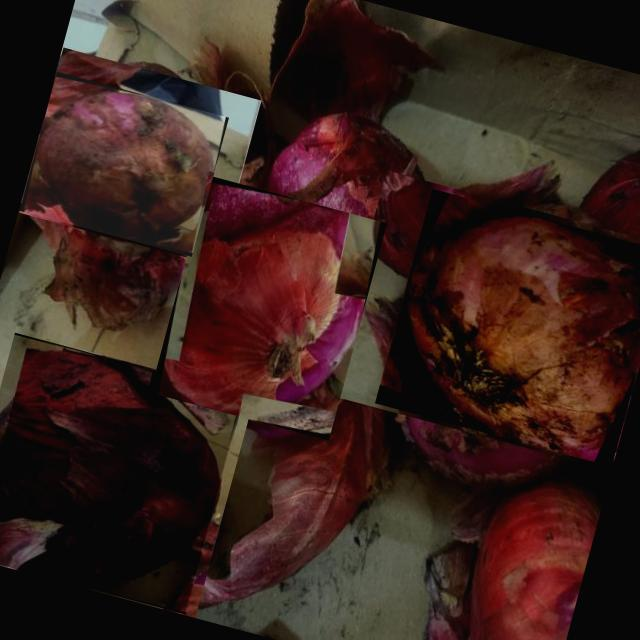rotten: (406, 215, 640, 462), (0, 348, 226, 586), (164, 206, 363, 415), (35, 91, 212, 240)
